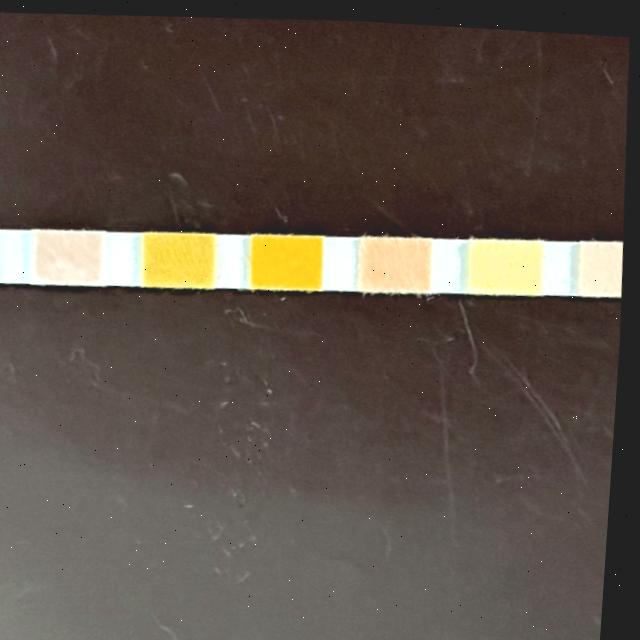Blood: (255, 227, 326, 284)
Ketone: (33, 226, 105, 283)
Protein: (473, 231, 544, 288)
SpGravity: (148, 227, 219, 284)
Urobilinogen: (583, 232, 627, 287)
pH: (363, 230, 433, 287)
